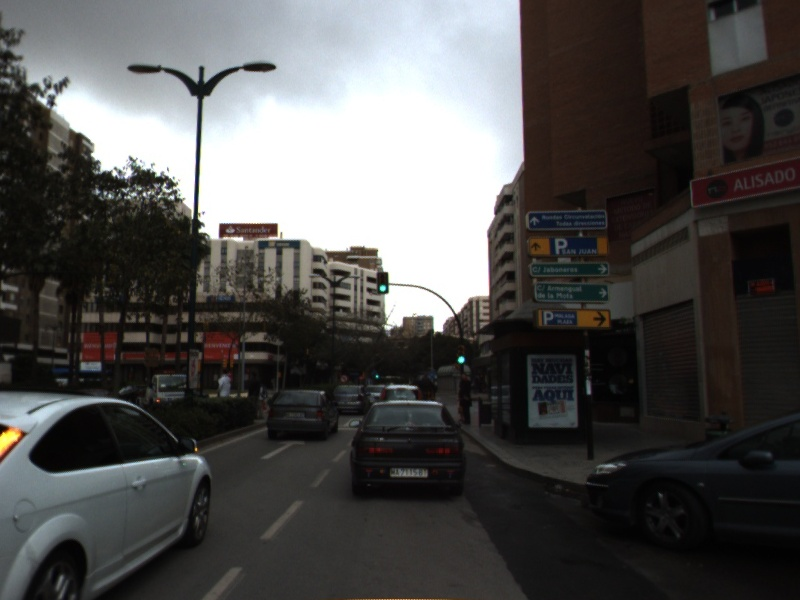STRAIGHT: (258, 438, 307, 462)
